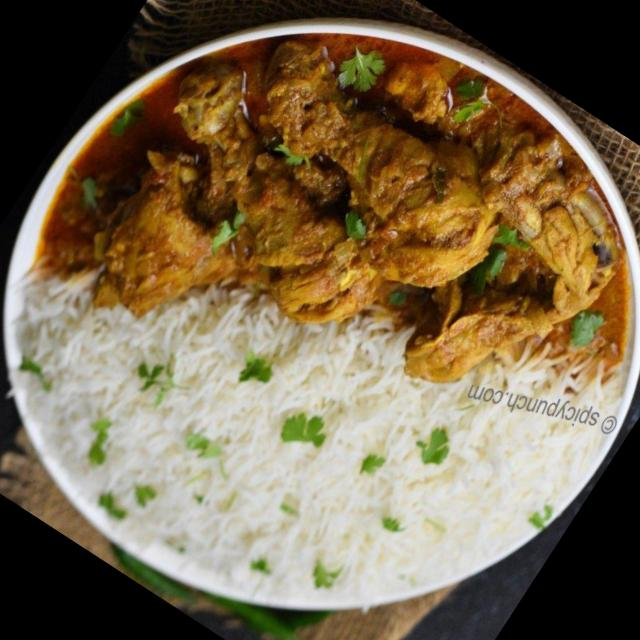chicken: (44, 34, 619, 366)
rice: (25, 311, 598, 582)
